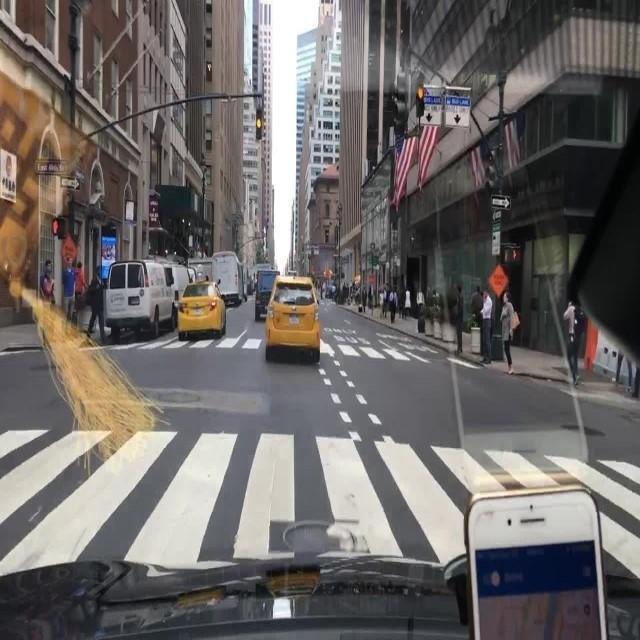normal: (104, 258, 179, 339), (266, 276, 321, 363), (178, 280, 228, 337), (254, 267, 280, 319)
